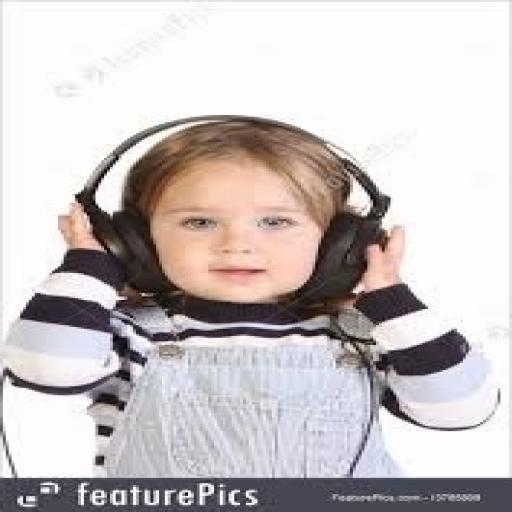listening_to_music: (0, 113, 503, 477)
